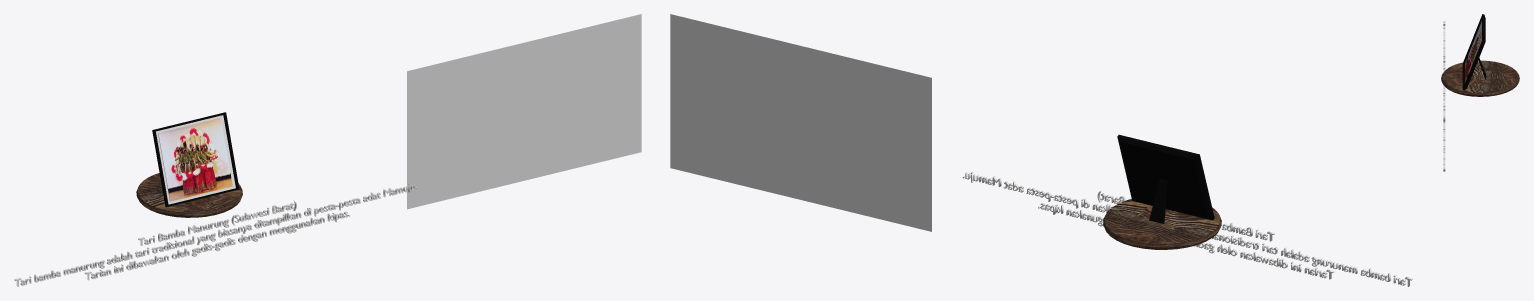
Rendered from 25. Tari bamba manurung (Sulawesi Barat+.fbx.
3 views of the same model, side by side, from view 1: azimuth 30°, elevation 25°; view 2: azimuth 150°, elevation 25°; view 3: azimuth 270°, elevation 25° (orthographic). The views are drawn at different scales.
Visible parts, largest first — view 1: Plane, Cube.006, Text; view 2: Plane, Cube.006, Text; view 3: Cube.006, Text.
Part boxes in pixels (x1,y1,x2,y2): Plane: (407,14,641,209); Cube.006: (136,112,242,217); Text: (14,183,417,286); Plane: (670,14,931,231); Cube.006: (1103,134,1221,249); Text: (962,171,1412,286); Cube.006: (1441,14,1519,96); Text: (1443,21,1445,171).
Size of the model in its own units: 8805 by 1800 by 1260.
6 materials, 3 textured.
